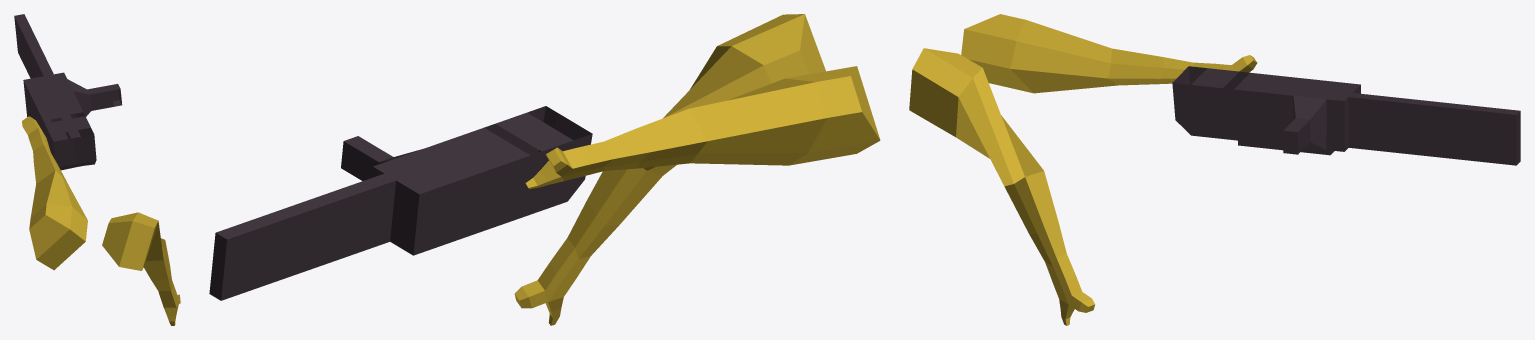
Rendered from arme_000117.obj.
3 views of the same model, side by side, from view 1: azimuth 30°, elevation 25°; view 2: azimuth 150°, elevation 25°; view 3: azimuth 270°, elevation 25° (orthographic). The views are drawn at different scales.
Visible parts, largest first — view 1: Cube.048_Cube.024, Cube.046_Cube.010; view 2: Cube.048_Cube.024, Cube.046_Cube.010; view 3: Cube.048_Cube.024, Cube.046_Cube.010.
Part boxes in pixels (<box>): Cube.048_Cube.024: <box>22,116,180,325</box>; Cube.046_Cube.010: <box>14,14,122,170</box>; Cube.048_Cube.024: <box>514,14,880,325</box>; Cube.046_Cube.010: <box>209,106,592,300</box>; Cube.048_Cube.024: <box>909,14,1257,325</box>; Cube.046_Cube.010: <box>1172,66,1520,165</box>.
Bounding box in the file's own units: 1239 × 1028 × 2511.
